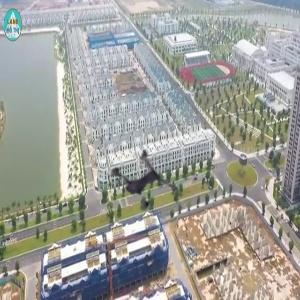drone: (99, 143, 184, 228)
